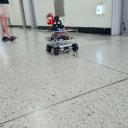cart: (44, 30, 78, 56)
